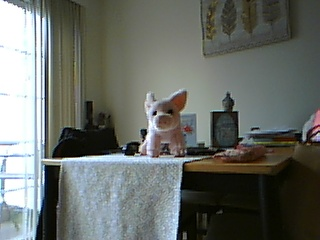piggy: (137, 87, 189, 158)
